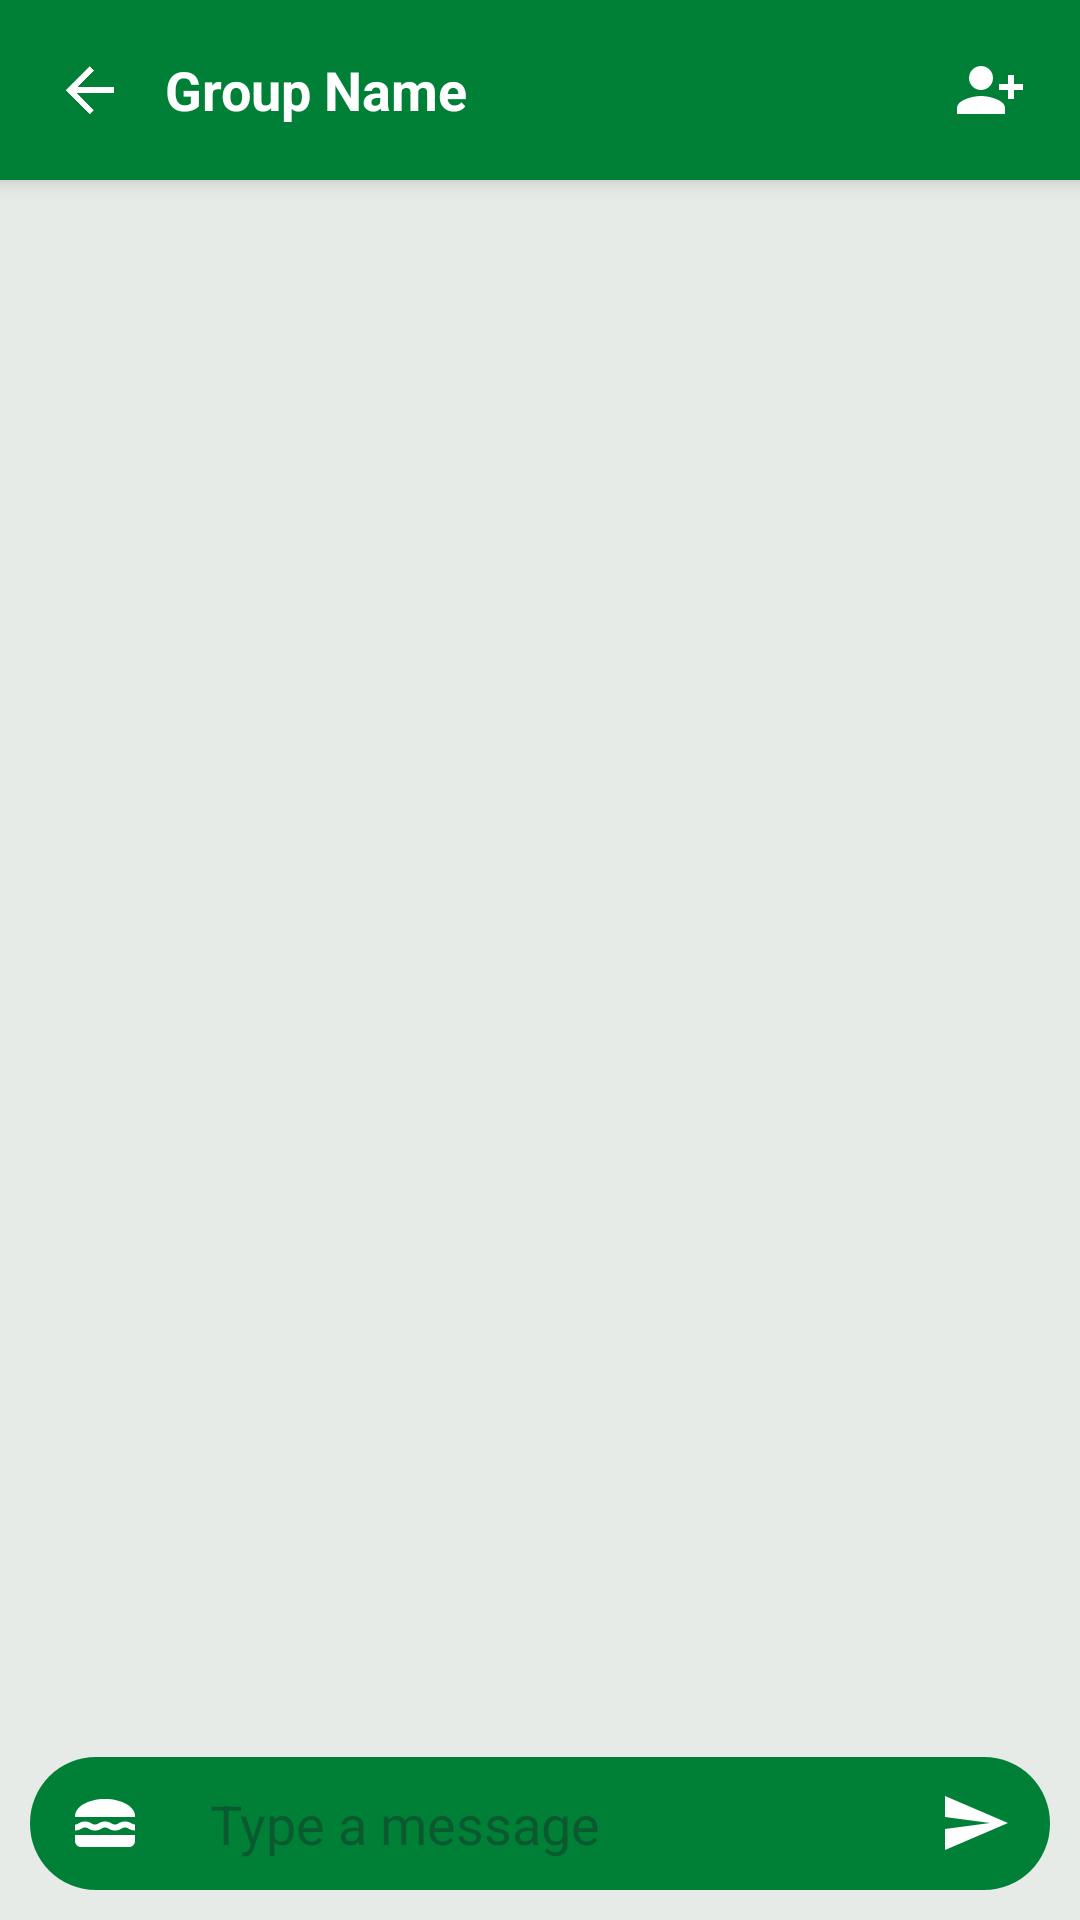

Named icons in this screenshot (1080 × 1920) and their bounding boxes, (x1, y1, x2, y2):
back: (66, 66, 114, 114)
dinning: (75, 1799, 135, 1847)
Send: (945, 1796, 1008, 1850)
